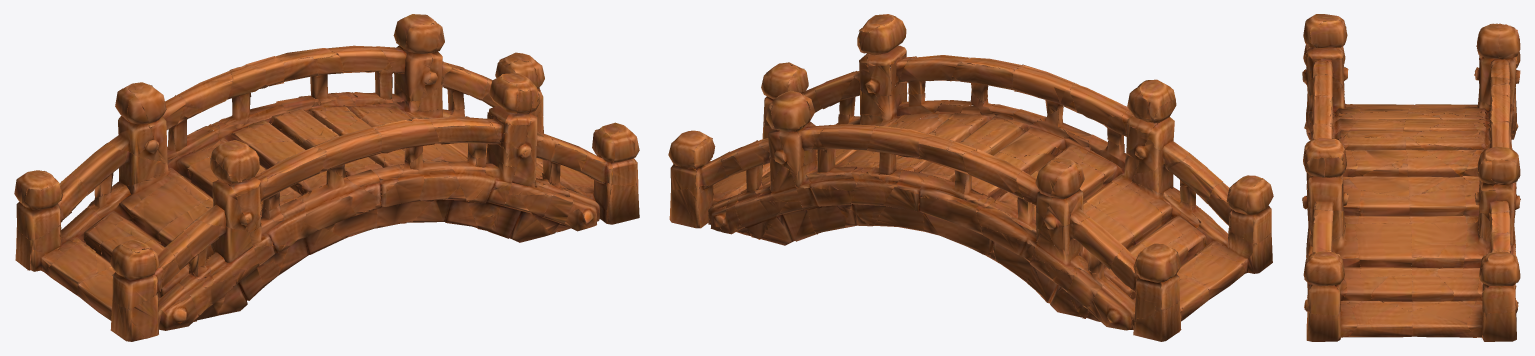
The model's file is timber-bridge.glb.
The picture shows the model from 3 angles, left to right: view 1: azimuth 30°, elevation 25°; view 2: azimuth 150°, elevation 25°; view 3: azimuth 270°, elevation 25°; orthographic projection. The views are drawn at different scales.
Visible parts, largest first — view 1: mesh_node; view 2: mesh_node; view 3: mesh_node.
Part boxes in pixels (left/top/right/bottom): mesh_node: left=14, top=14, right=639, bottom=341; mesh_node: left=668, top=14, right=1273, bottom=341; mesh_node: left=1302, top=14, right=1520, bottom=341.
Size of the model in its own units: 1.9 by 0.5722 by 0.7641.
1 material, 1 textured.
